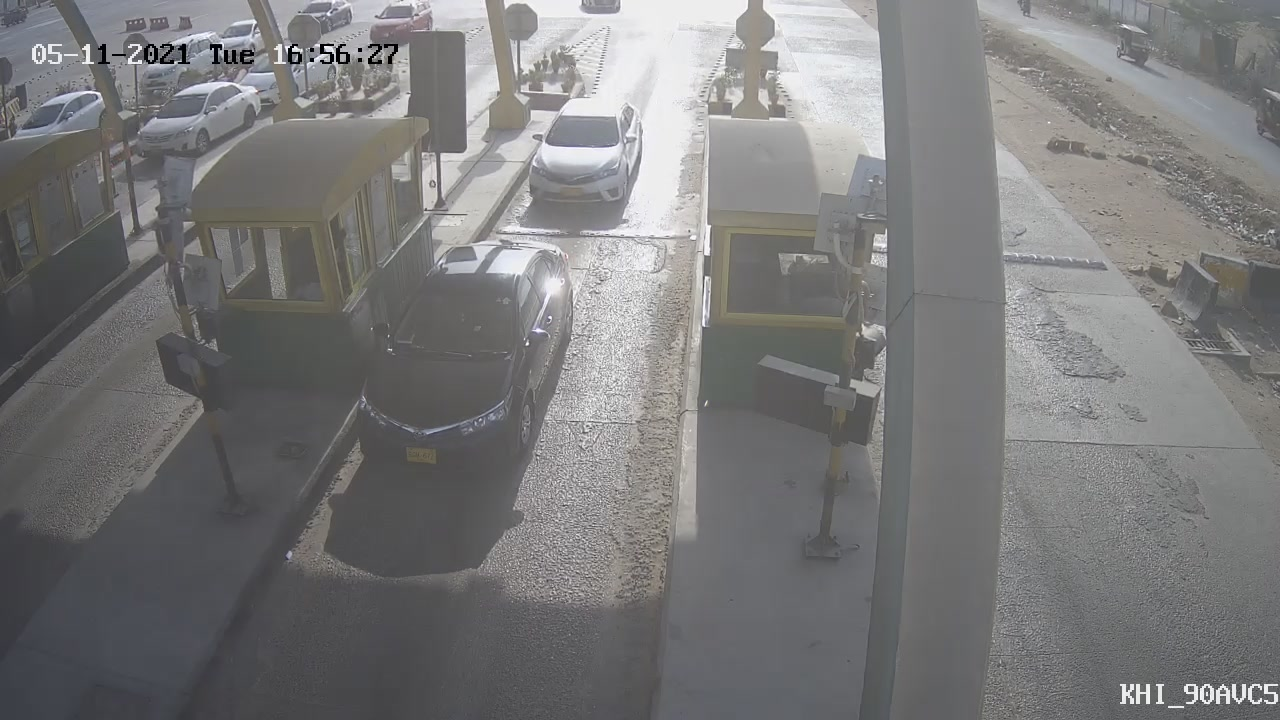F1: (337, 220, 592, 492), (509, 81, 665, 233)
